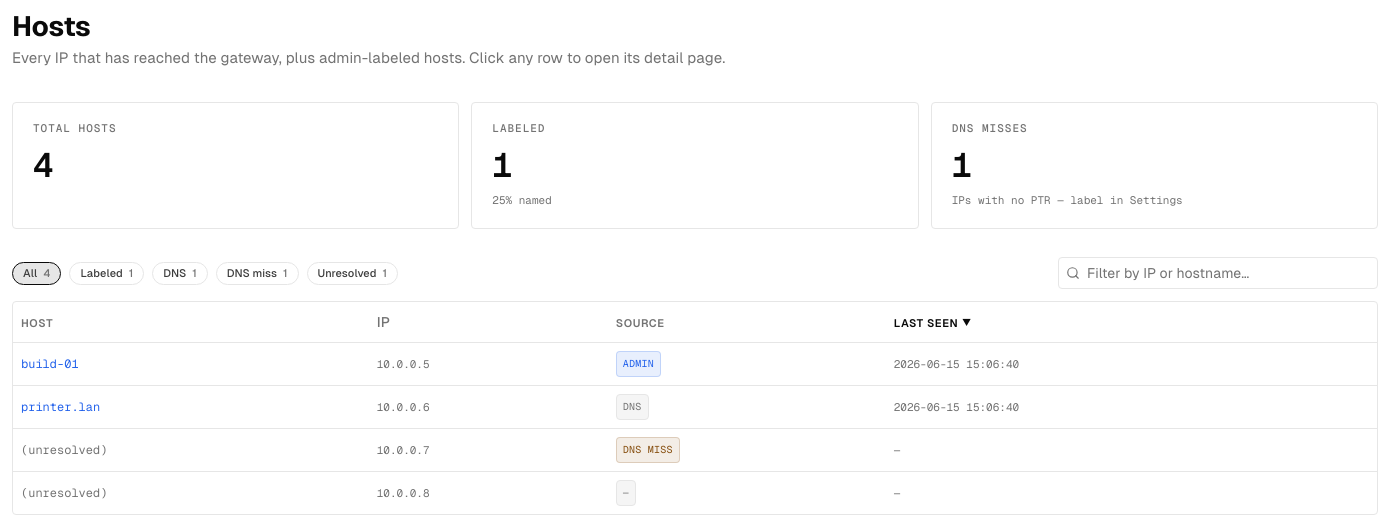
Test: HostsListPage › filters by IP or hostname search
The width and height of the screenshot is (1390, 532).
Type "printer" into the field with placeholder "Filter by IP or hostname…". click: x=1218, y=273
box: [1058,257,1378,289]
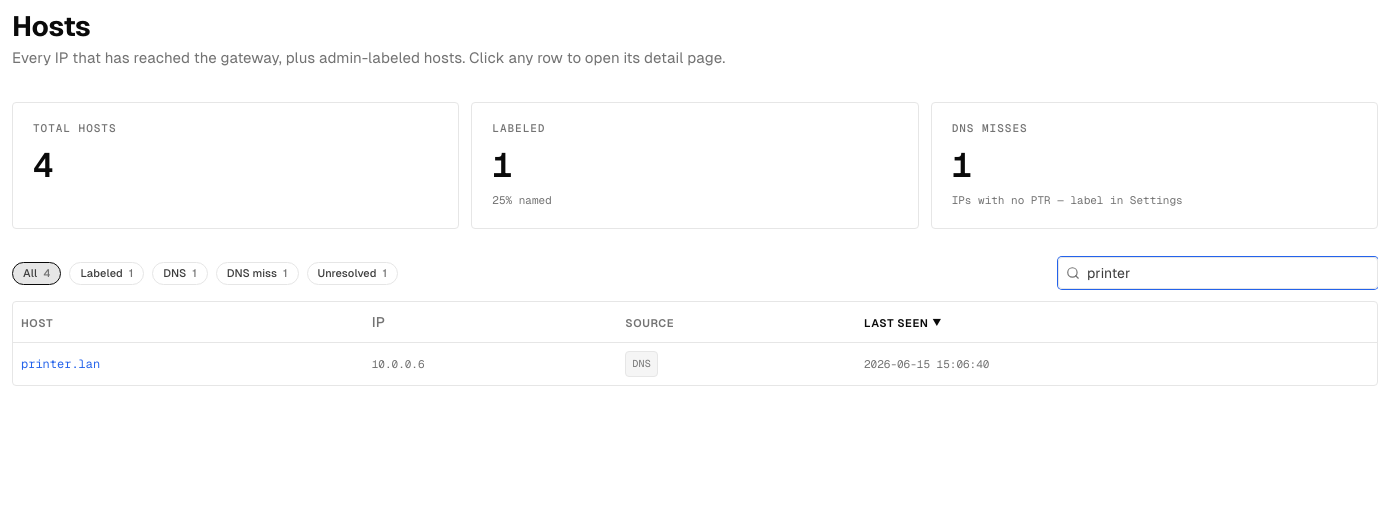
Replace the text in the field with placeholder "Filter by IP or hostname…" with "10.0.0.7". click: x=1218, y=273
box: [1058,257,1378,289]
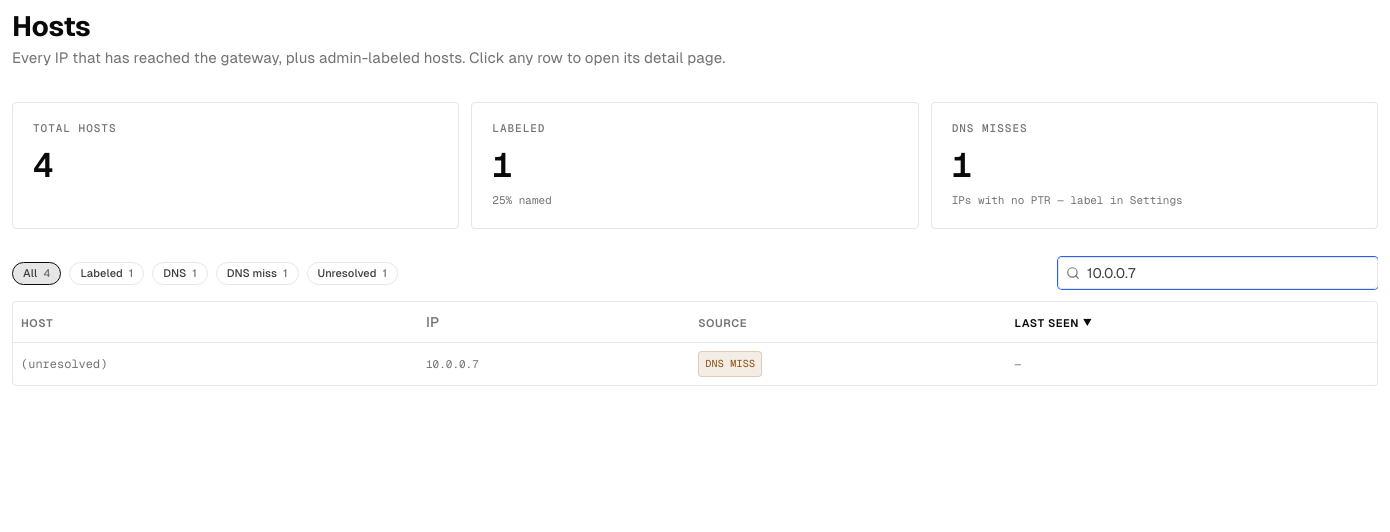
Replace the text in the field with placeholder "Filter by IP or hostname…" with "does-not-exist". click: x=1218, y=273
box: [1058,257,1378,289]
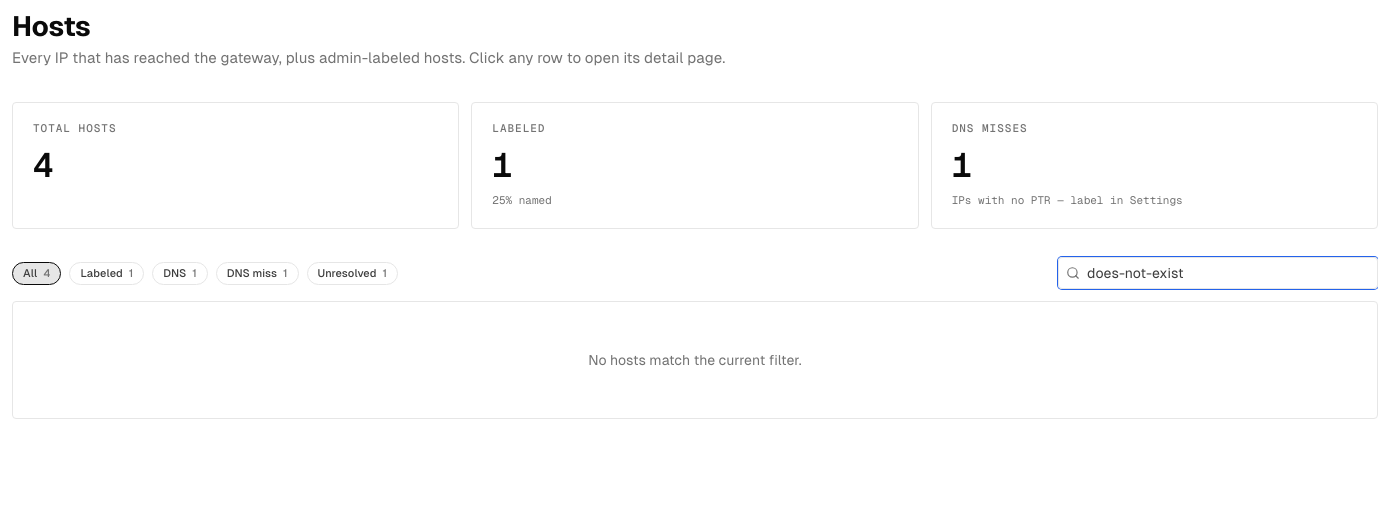
Result: the text "No hosts match the current filter." is shown at [12,301,1378,419]
